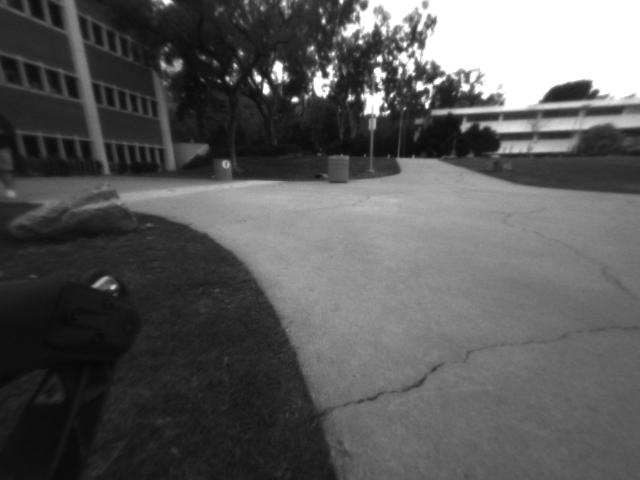trashcan: (327, 154, 351, 187), (213, 155, 235, 182)
